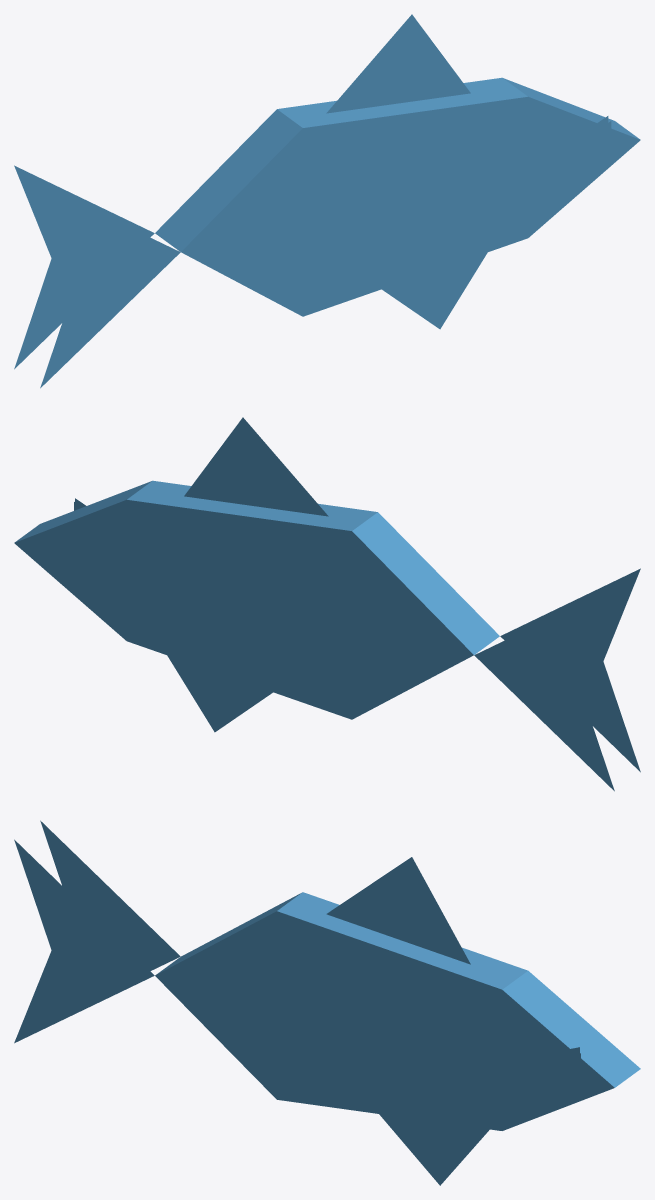
Rendered from pacific-mackerel.gltf.
3 renders of one model, top to bottom at view 1: azimuth 30°, elevation 25°; view 2: azimuth 150°, elevation 25°; view 3: azimuth 330°, elevation 25°, orthographic.
Parts seen in each view (by area): view 1: pacific_mackerel; view 2: pacific_mackerel; view 3: pacific_mackerel.
Boxes of the visible parts, x1,y1,x2,y2 form: pacific_mackerel: (14,14,640,388); pacific_mackerel: (14,417,640,791); pacific_mackerel: (14,820,640,1185).
Size of the model in its own units: 3.2 by 1.64 by 0.26.
